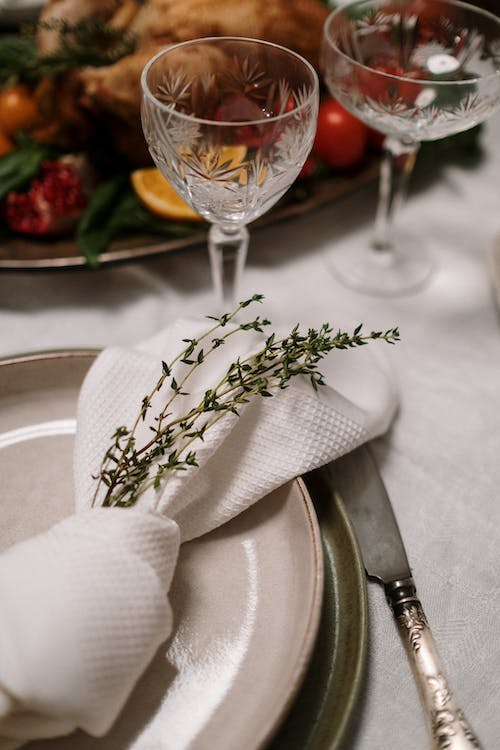knife: (329, 440, 488, 750)
